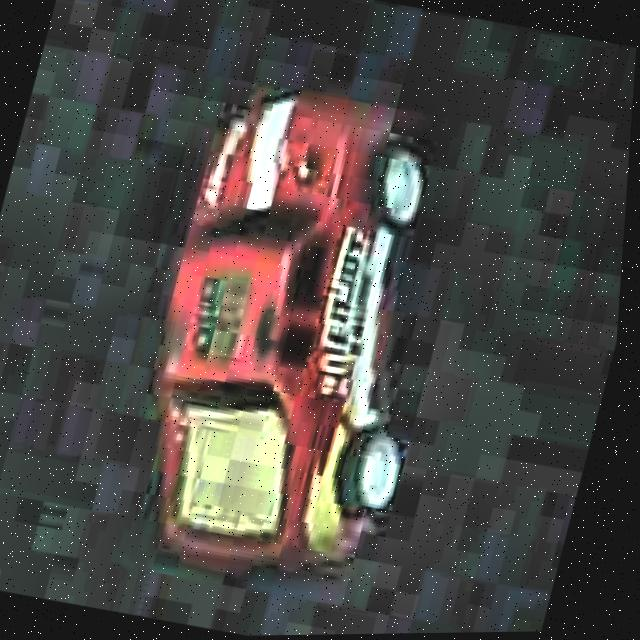car: (96, 68, 502, 591)
